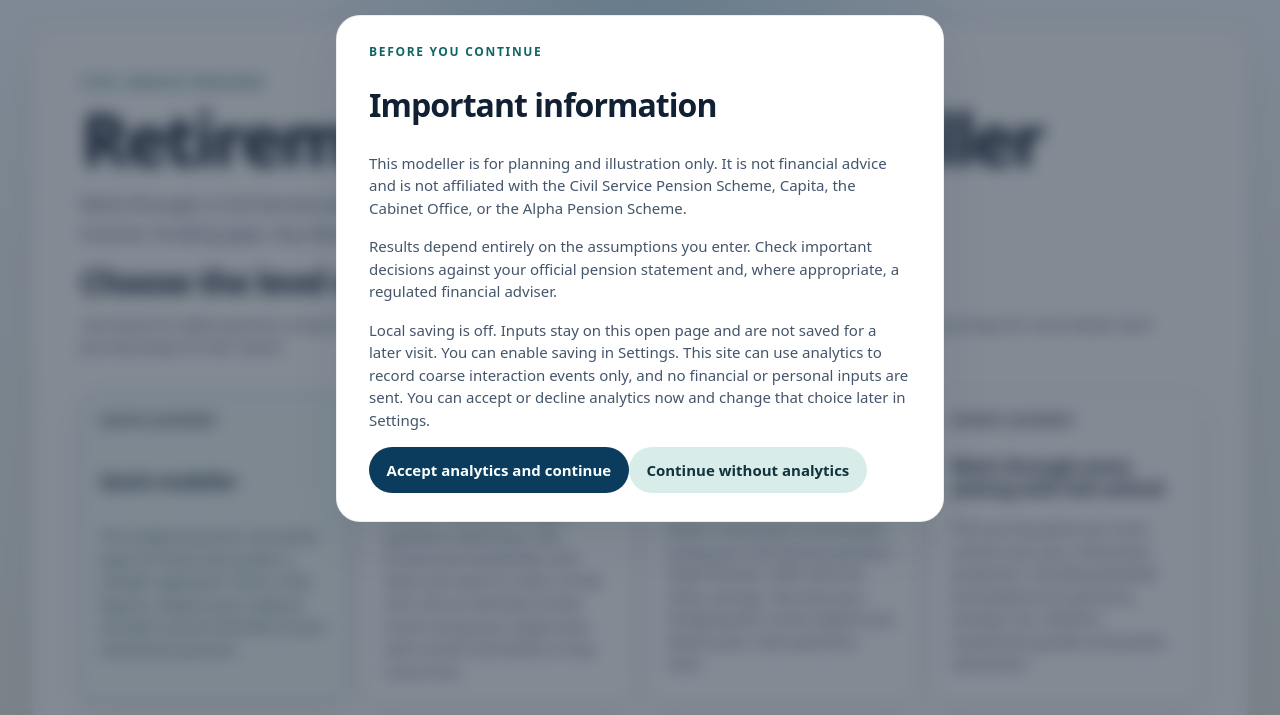
Test: Quick modeller journey › does not create a quick snapshot when saving is enabled without new edits
The width and height of the screenshot is (1280, 715).
Click the button "Continue without analytics": x=748, y=470 [629, 448, 867, 493]
(page scrolled)
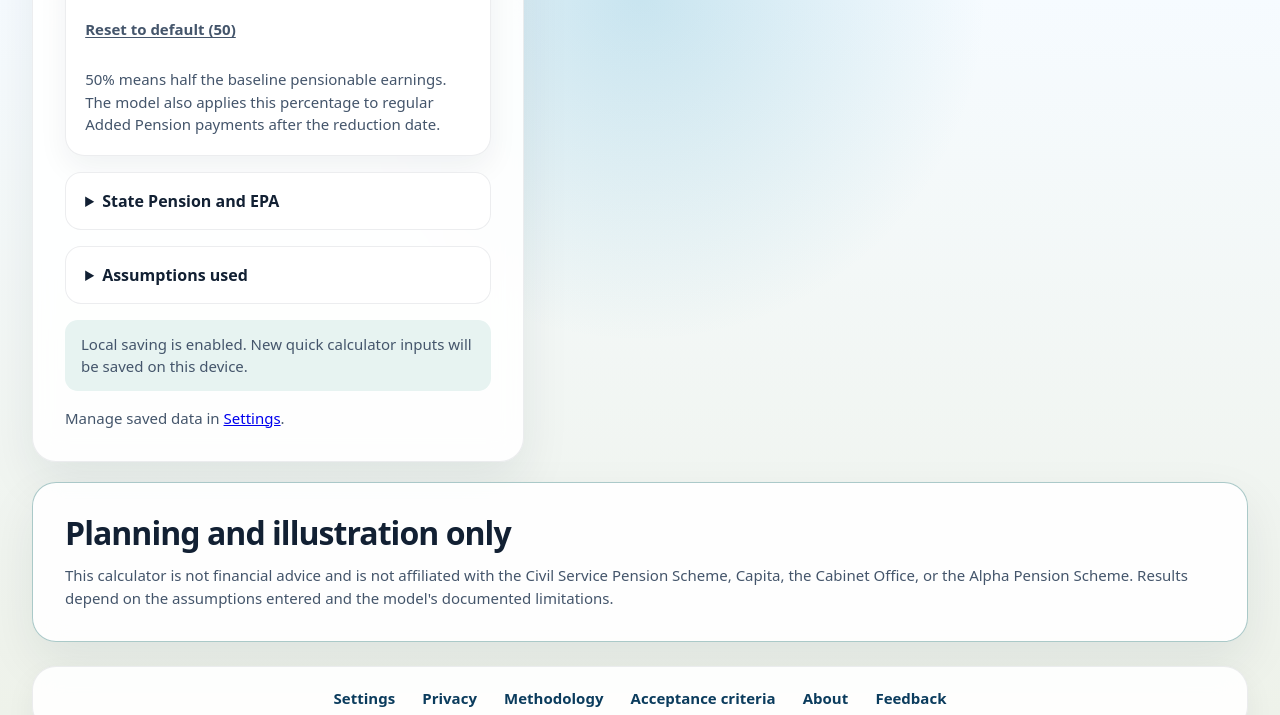
Expected: the text "Local saving is enabled. New quick calculator inputs" is shown, [81, 334, 472, 376]
